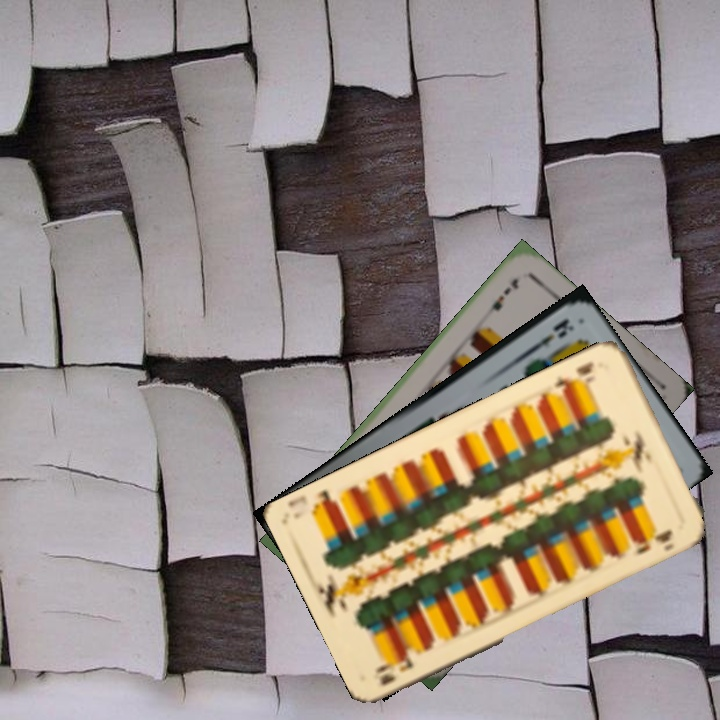E10: (550, 358, 598, 397), (371, 650, 415, 688)
E7: (480, 273, 522, 320)
EK: (524, 314, 577, 356)
